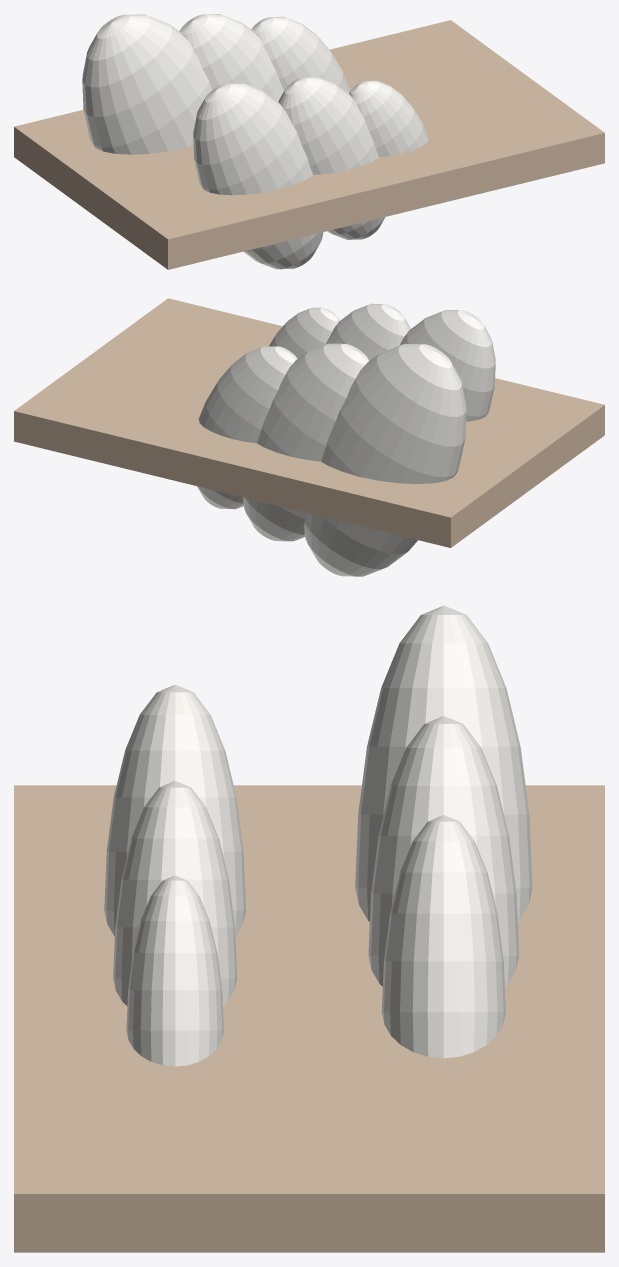
The model's file is opera.glb.
3 views of the same model, one above another, from view 1: azimuth 30°, elevation 25°; view 2: azimuth 150°, elevation 25°; view 3: azimuth 270°, elevation 25° (orthographic). The views are drawn at different scales.
Parts seen in each view (by area): view 1: Cube, Sphere, Sphere.003, Sphere.004, Sphere.001, Sphere.002, Sphere.005; view 2: Cube, Sphere, Sphere.001, Sphere.002, Sphere.003, Sphere.004, Sphere.005; view 3: Cube, Sphere.002, Sphere, Sphere.001, Sphere.003, Sphere.005, Sphere.004.
Boxes of the visible parts, left/top/right/bottom form: Cube: left=14, top=20, right=604, bottom=269; Sphere: left=82, top=14, right=211, bottom=154; Sphere.003: left=193, top=83, right=323, bottom=269; Sphere.004: left=278, top=77, right=385, bottom=239; Sphere.001: left=179, top=14, right=283, bottom=101; Sphere.002: left=251, top=16, right=350, bottom=93; Sphere.005: left=349, top=80, right=428, bottom=157; Cube: left=14, top=298, right=604, bottom=547; Sphere: left=304, top=343, right=466, bottom=576; Sphere.001: left=243, top=343, right=369, bottom=541; Sphere.002: left=197, top=346, right=297, bottom=509; Sphere.003: left=399, top=310, right=495, bottom=421; Sphere.004: left=325, top=303, right=410, bottom=360; Sphere.005: left=269, top=307, right=339, bottom=358; Cube: left=14, top=785, right=604, bottom=1252; Sphere.002: left=381, top=815, right=505, bottom=1058; Sphere: left=355, top=605, right=532, bottom=921; Sphere.001: left=368, top=716, right=518, bottom=986; Sphere.003: left=104, top=684, right=245, bottom=936; Sphere.005: left=126, top=875, right=223, bottom=1066; Sphere.004: left=113, top=781, right=237, bottom=1005.
Bounding box in the file's own units: 180 × 97.83 × 110.
